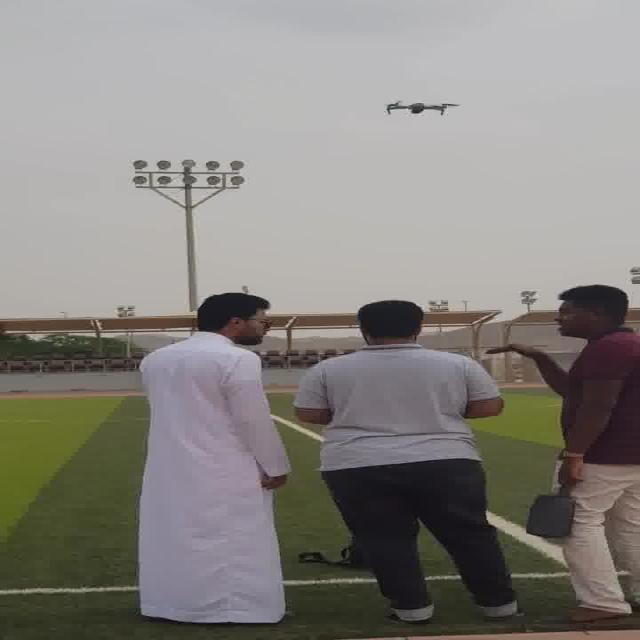drone: (377, 95, 466, 119)
